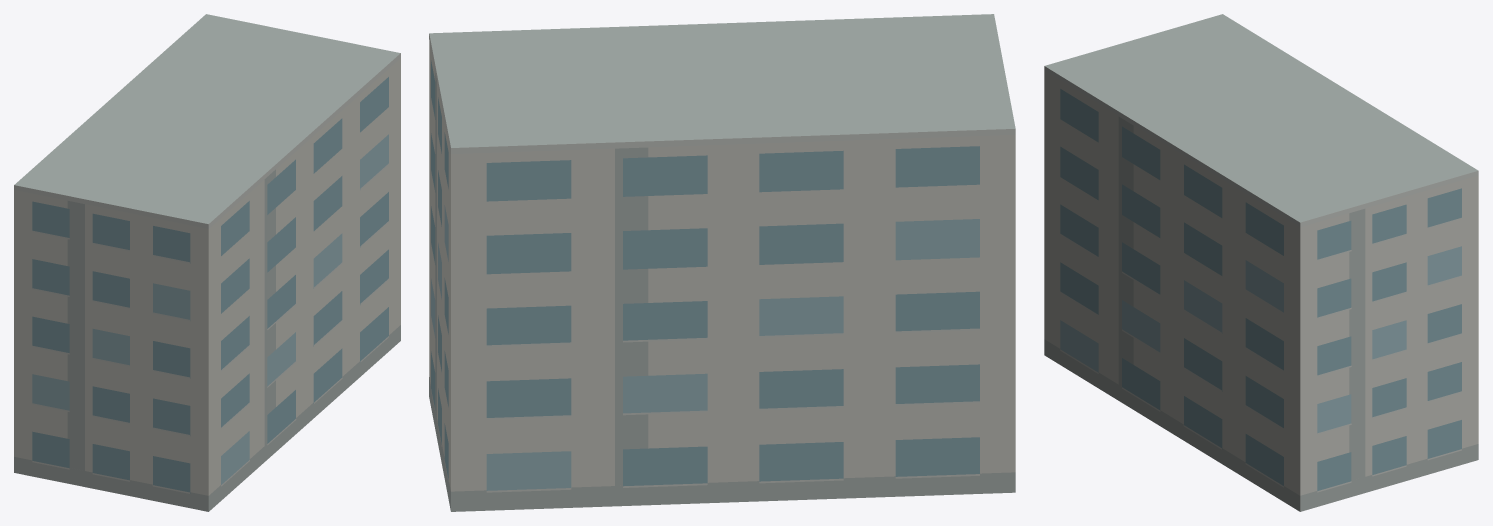
File: residential-e9f6bae1-6843-4630-8fff-821e6a6193f5.glb
3 views of the same model, side by side, from view 1: azimuth 30°, elevation 25°; view 2: azimuth 150°, elevation 25°; view 3: azimuth 270°, elevation 25° (orthographic). The views are drawn at different scales.
Parts seen in each view (by area): view 1: residential-e9f6bae1-6843-4630-8fff-821e6a6193f5.tmp; view 2: residential-e9f6bae1-6843-4630-8fff-821e6a6193f5.tmp; view 3: residential-e9f6bae1-6843-4630-8fff-821e6a6193f5.tmp.
Part boxes in pixels (x1=…): residential-e9f6bae1-6843-4630-8fff-821e6a6193f5.tmp: x1=14, y1=14, x2=400, y2=511; residential-e9f6bae1-6843-4630-8fff-821e6a6193f5.tmp: x1=429, y1=14, x2=1015, y2=511; residential-e9f6bae1-6843-4630-8fff-821e6a6193f5.tmp: x1=1044, y1=14, x2=1478, y2=511.
Size of the model in its own units: 22.28 by 14.4 by 19.6.
